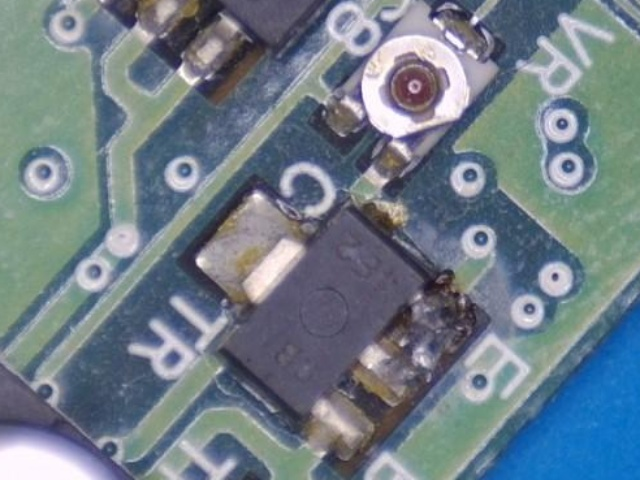pcb_defect: (357, 291, 477, 395)
